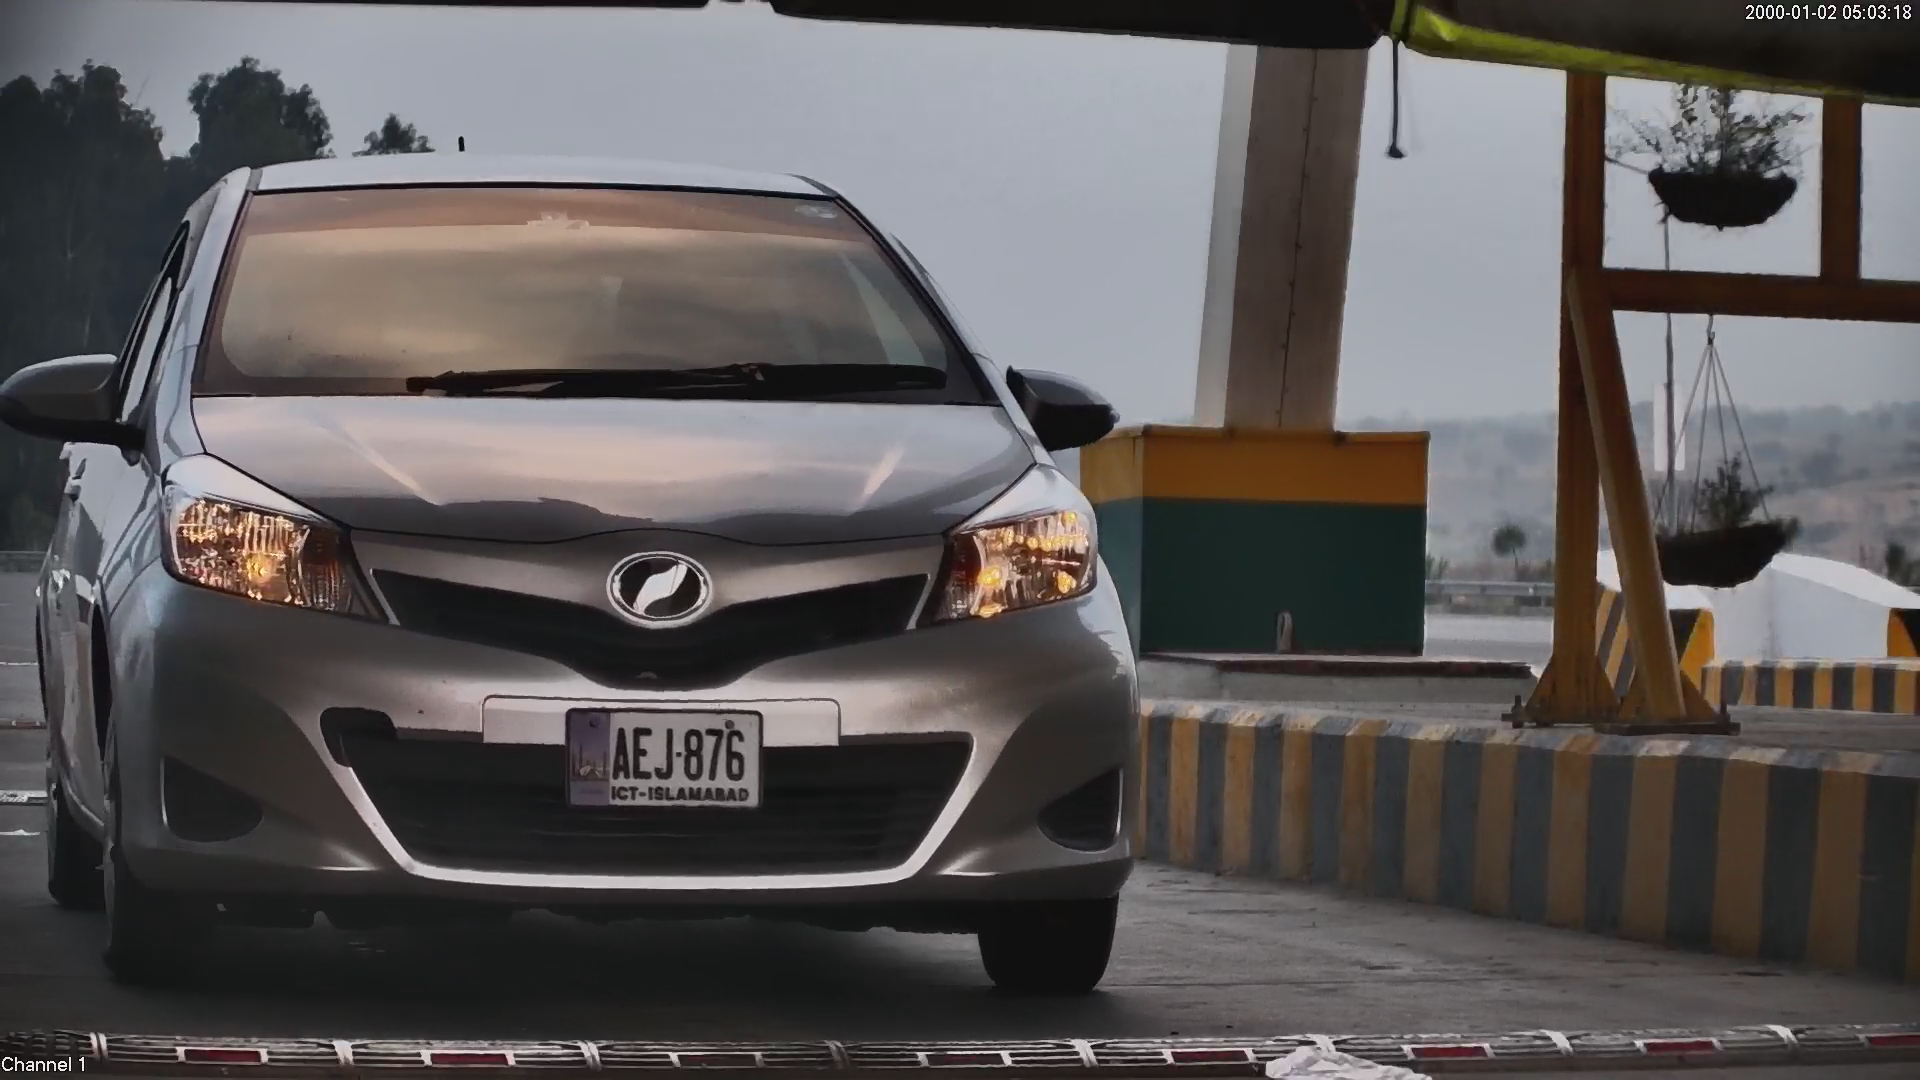Number_Plate: (559, 695, 773, 821)
